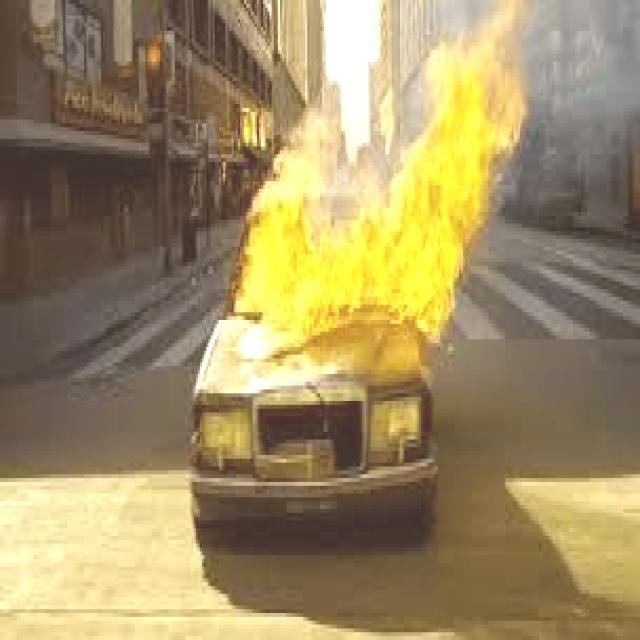fire: (240, 61, 526, 332)
